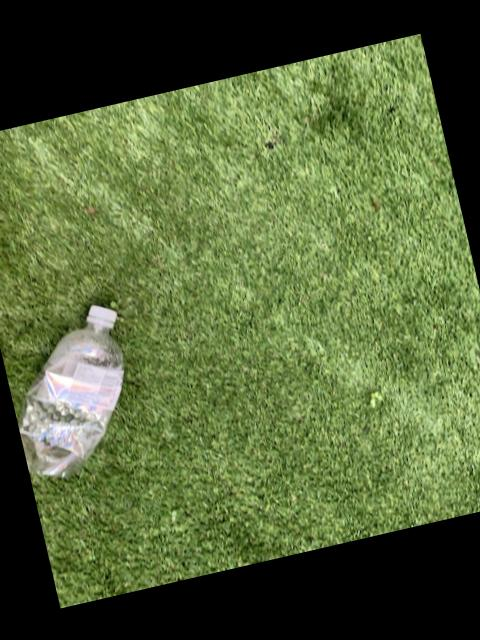plastic: (18, 302, 124, 474)
